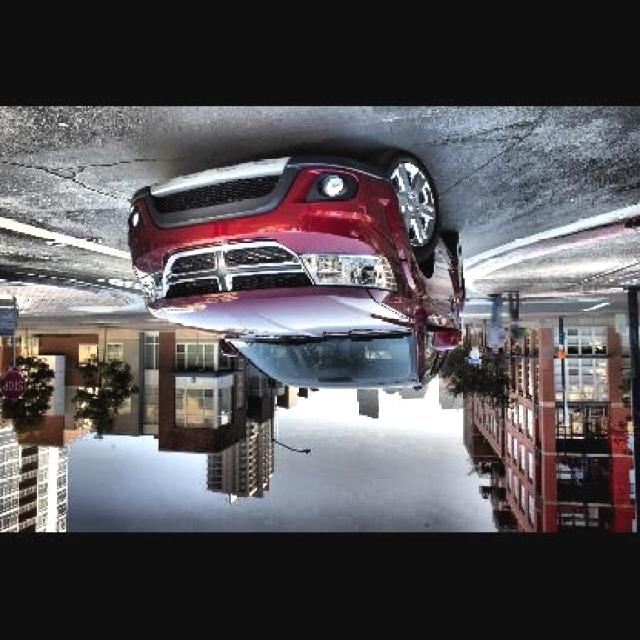maroon: (133, 157, 468, 386)
